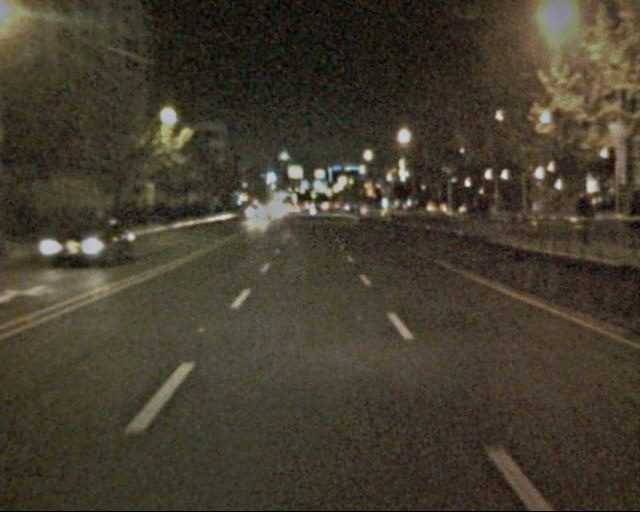person: (564, 183, 593, 256), (615, 188, 640, 266), (464, 194, 495, 227)
